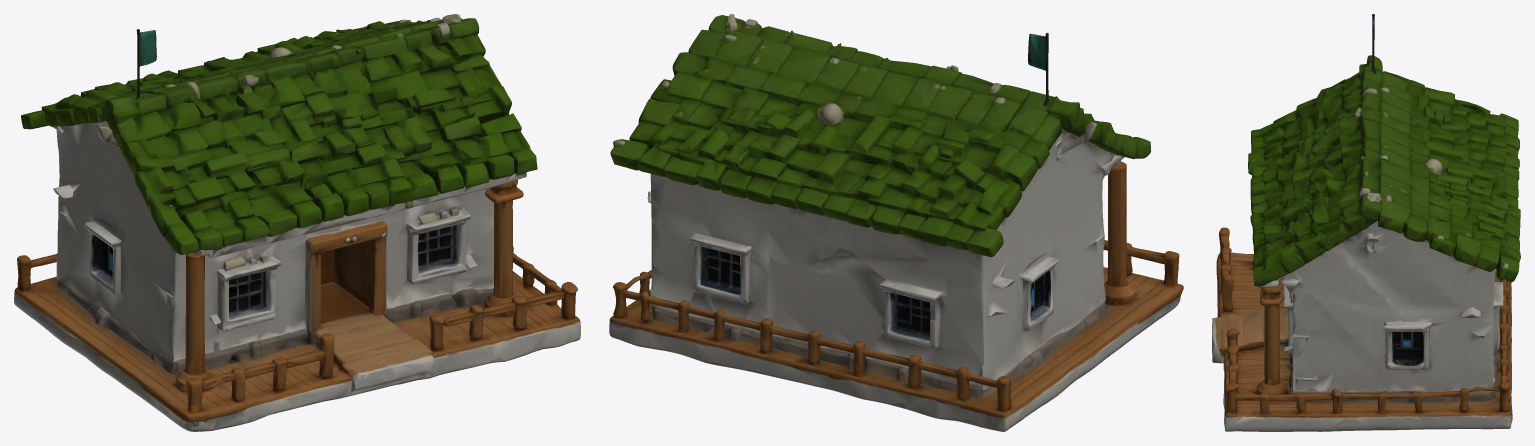
File: clubhouse.glb
3 renders of one model, left to right at view 1: azimuth 30°, elevation 25°; view 2: azimuth 150°, elevation 25°; view 3: azimuth 270°, elevation 25°, orthographic. The views are drawn at different scales.
Parts seen in each view (by area): view 1: tripo_node_66c4f9e4-230d-4a3a-be2b-76c67b49098c; view 2: tripo_node_66c4f9e4-230d-4a3a-be2b-76c67b49098c; view 3: tripo_node_66c4f9e4-230d-4a3a-be2b-76c67b49098c.
Part boxes in pixels (box(x1,y1,x2,y2)): tripo_node_66c4f9e4-230d-4a3a-be2b-76c67b49098c: box(14, 14, 580, 431); tripo_node_66c4f9e4-230d-4a3a-be2b-76c67b49098c: box(609, 14, 1183, 431); tripo_node_66c4f9e4-230d-4a3a-be2b-76c67b49098c: box(1212, 14, 1520, 431).
Size of the model in its own units: 0.9999 by 0.8005 by 0.8073.
Materials: 1 (1 with a texture image).
